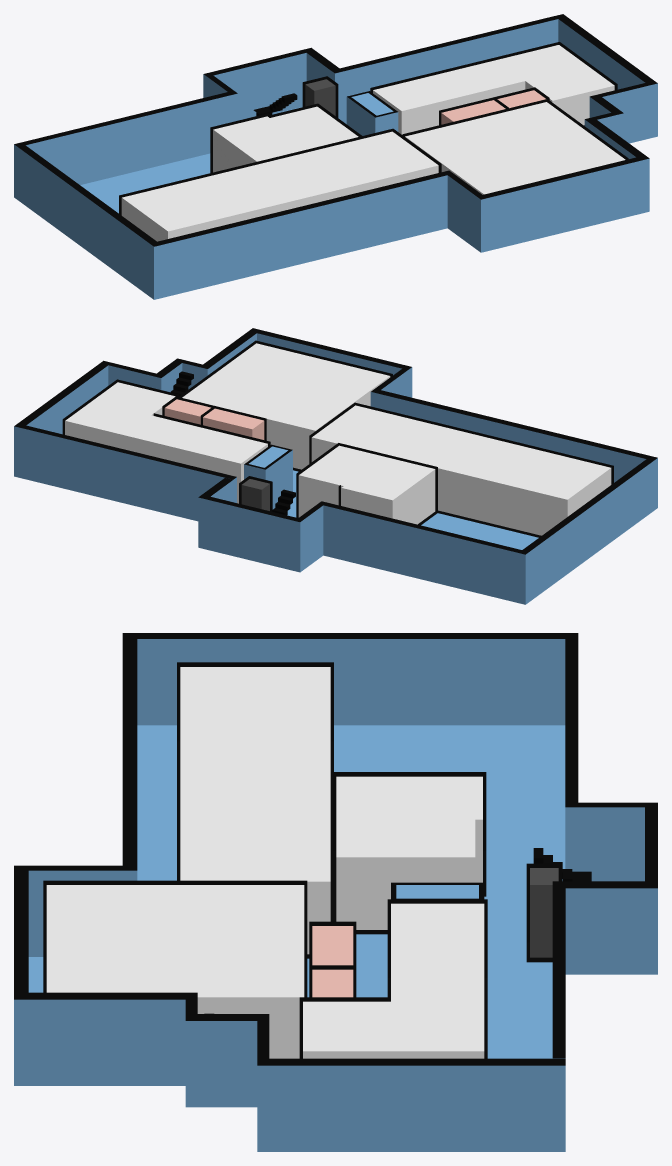
The picture shows the model from 3 angles, top to bottom: view 1: azimuth 30°, elevation 25°; view 2: azimuth 150°, elevation 25°; view 3: azimuth 270°, elevation 25°; orthographic projection. The views are drawn at different scales.
Parts seen in each view (by area): view 1: object, room_L_4_2, room_L_4_1, room_L_4_3, room_L_4_4, object_line, object_line.002, object_line.005, エレベーター_L_4_1, トイレ_L_4_2, object_line.001, トイレ_L_4_1 (+1 smaller); view 2: object, room_L_4_2, room_L_4_1, room_L_4_3, room_L_4_4, object_line, トイレ_L_4_2, object_line.001, object_line.002, object_line.005, エレベーター_L_4_1, トイレ_L_4_1; view 3: object, room_L_4_2, room_L_4_1, room_L_4_3, room_L_4_4, object_line, object_line.005, object_line.002, エレベーター_L_4_1, object_line.001, トイレ_L_4_2, トイレ_L_4_1 (+1 smaller).
Part boxes in pixels (<box>): object: <box>14,14,657,299</box>; room_L_4_2: <box>121,131,438,241</box>; room_L_4_1: <box>405,102,625,194</box>; room_L_4_3: <box>373,45,614,134</box>; room_L_4_4: <box>213,106,358,172</box>; object_line: <box>119,128,441,215</box>; object_line.002: <box>370,42,617,92</box>; object_line.005: <box>402,99,628,159</box>; エレベーター_L_4_1: <box>305,79,335,115</box>; トイレ_L_4_2: <box>441,100,505,124</box>; object_line.001: <box>210,103,362,172</box>; トイレ_L_4_1: <box>497,90,545,108</box>; object: <box>14,328,657,604</box>; room_L_4_2: <box>311,405,611,535</box>; room_L_4_1: <box>182,343,390,469</box>; room_L_4_3: <box>65,382,267,503</box>; room_L_4_4: <box>298,445,435,524</box>; object_line: <box>309,402,613,537</box>; トイレ_L_4_2: <box>203,408,264,439</box>; object_line.001: <box>296,443,437,525</box>; object_line.002: <box>62,379,270,446</box>; object_line.005: <box>179,340,392,471</box>; エレベーター_L_4_1: <box>241,479,269,510</box>; トイレ_L_4_1: <box>164,399,210,424</box>; object: <box>14,633,657,1151</box>; room_L_4_2: <box>180,667,330,954</box>; room_L_4_1: <box>46,885,304,1058</box>; room_L_4_3: <box>303,903,484,1058</box>; room_L_4_4: <box>336,776,482,929</box>; object_line: <box>177,662,333,958</box>; object_line.005: <box>43,880,307,997</box>; object_line.002: <box>299,899,487,1058</box>; エレベーター_L_4_1: <box>530,868,558,957</box>; object_line.001: <box>333,772,486,934</box>; トイレ_L_4_2: <box>312,926,353,965</box>; トイレ_L_4_1: <box>312,969,353,997</box>.
Size of the model in its own units: 2.33 by 0.2204 by 1.46.
